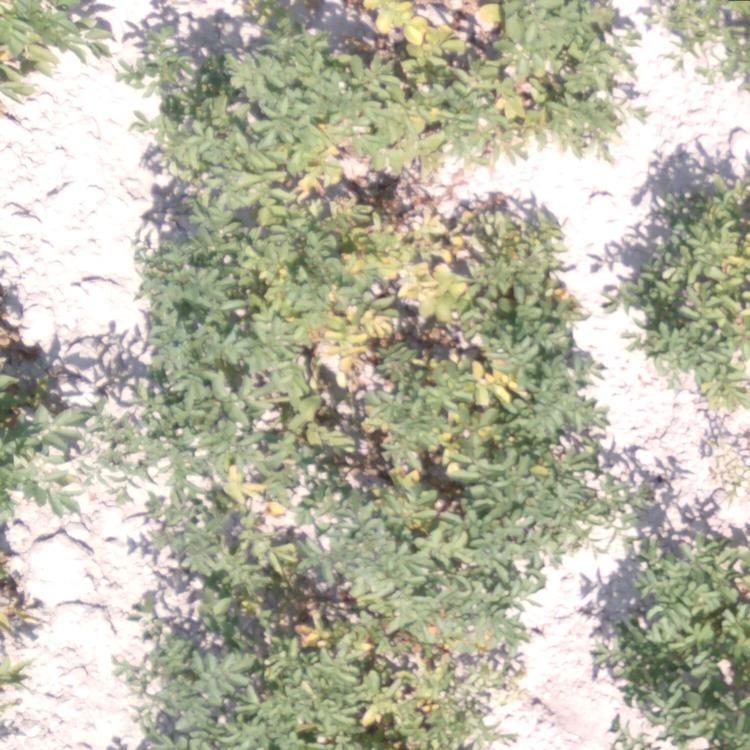healthy: (148, 206, 259, 482), (1, 317, 149, 515), (606, 599, 748, 750), (148, 481, 221, 750), (618, 503, 750, 596), (483, 491, 547, 674), (1, 1, 108, 98), (666, 2, 750, 78), (550, 495, 607, 563), (1, 559, 32, 632)
stressed: (252, 346, 616, 491), (151, 1, 374, 202), (369, 1, 636, 152), (375, 150, 579, 346), (345, 485, 476, 750), (220, 481, 349, 749), (257, 200, 381, 344), (639, 157, 750, 280), (616, 282, 750, 380), (693, 380, 748, 424)
